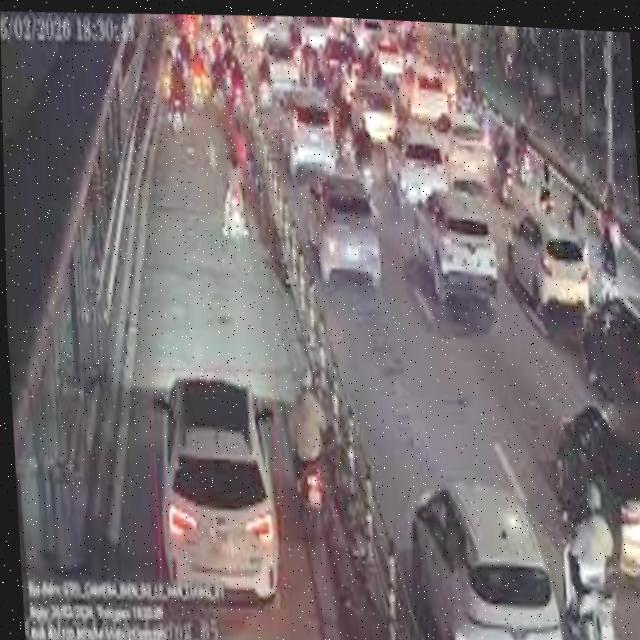car: (152, 369, 283, 610), (406, 471, 563, 640), (407, 182, 503, 308), (303, 165, 389, 295), (506, 201, 589, 317), (270, 81, 337, 180), (382, 123, 442, 199)
motorcycle: (554, 499, 630, 640), (294, 452, 333, 535)
